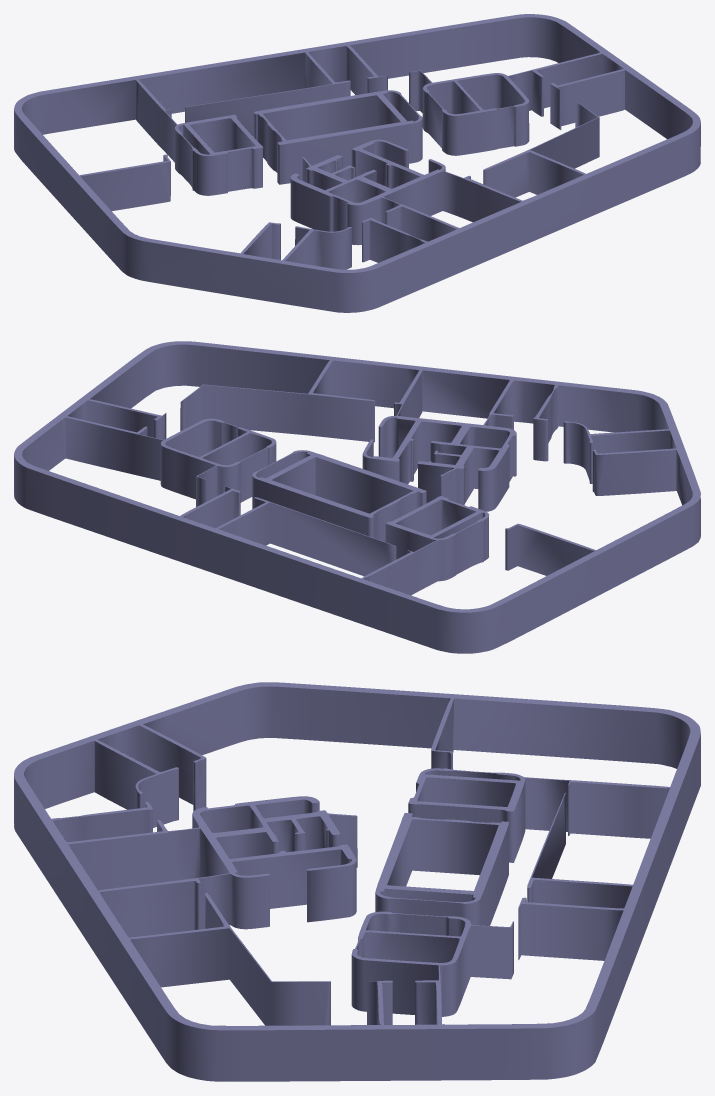
3 views of the same model, one above another, from view 1: azimuth 30°, elevation 25°; view 2: azimuth 150°, elevation 25°; view 3: azimuth 270°, elevation 25° (orthographic). The views are drawn at different scales.
Visible parts, largest first — view 1: path22; view 2: path22; view 3: path22.
Boxes of the visible parts, x1,y1,x2,y2 form: path22: (14,14,700,312); path22: (14,341,700,653); path22: (14,682,700,1081).
Bounding box in the file's own units: 29.04 × 2 × 24.21.
